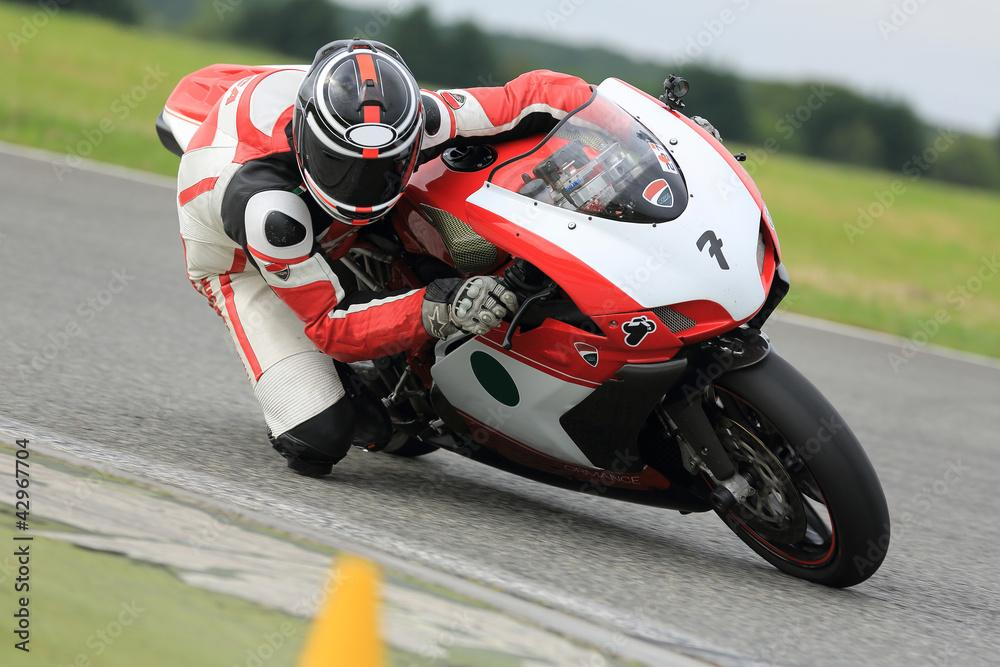helmet: (291, 36, 427, 227)
